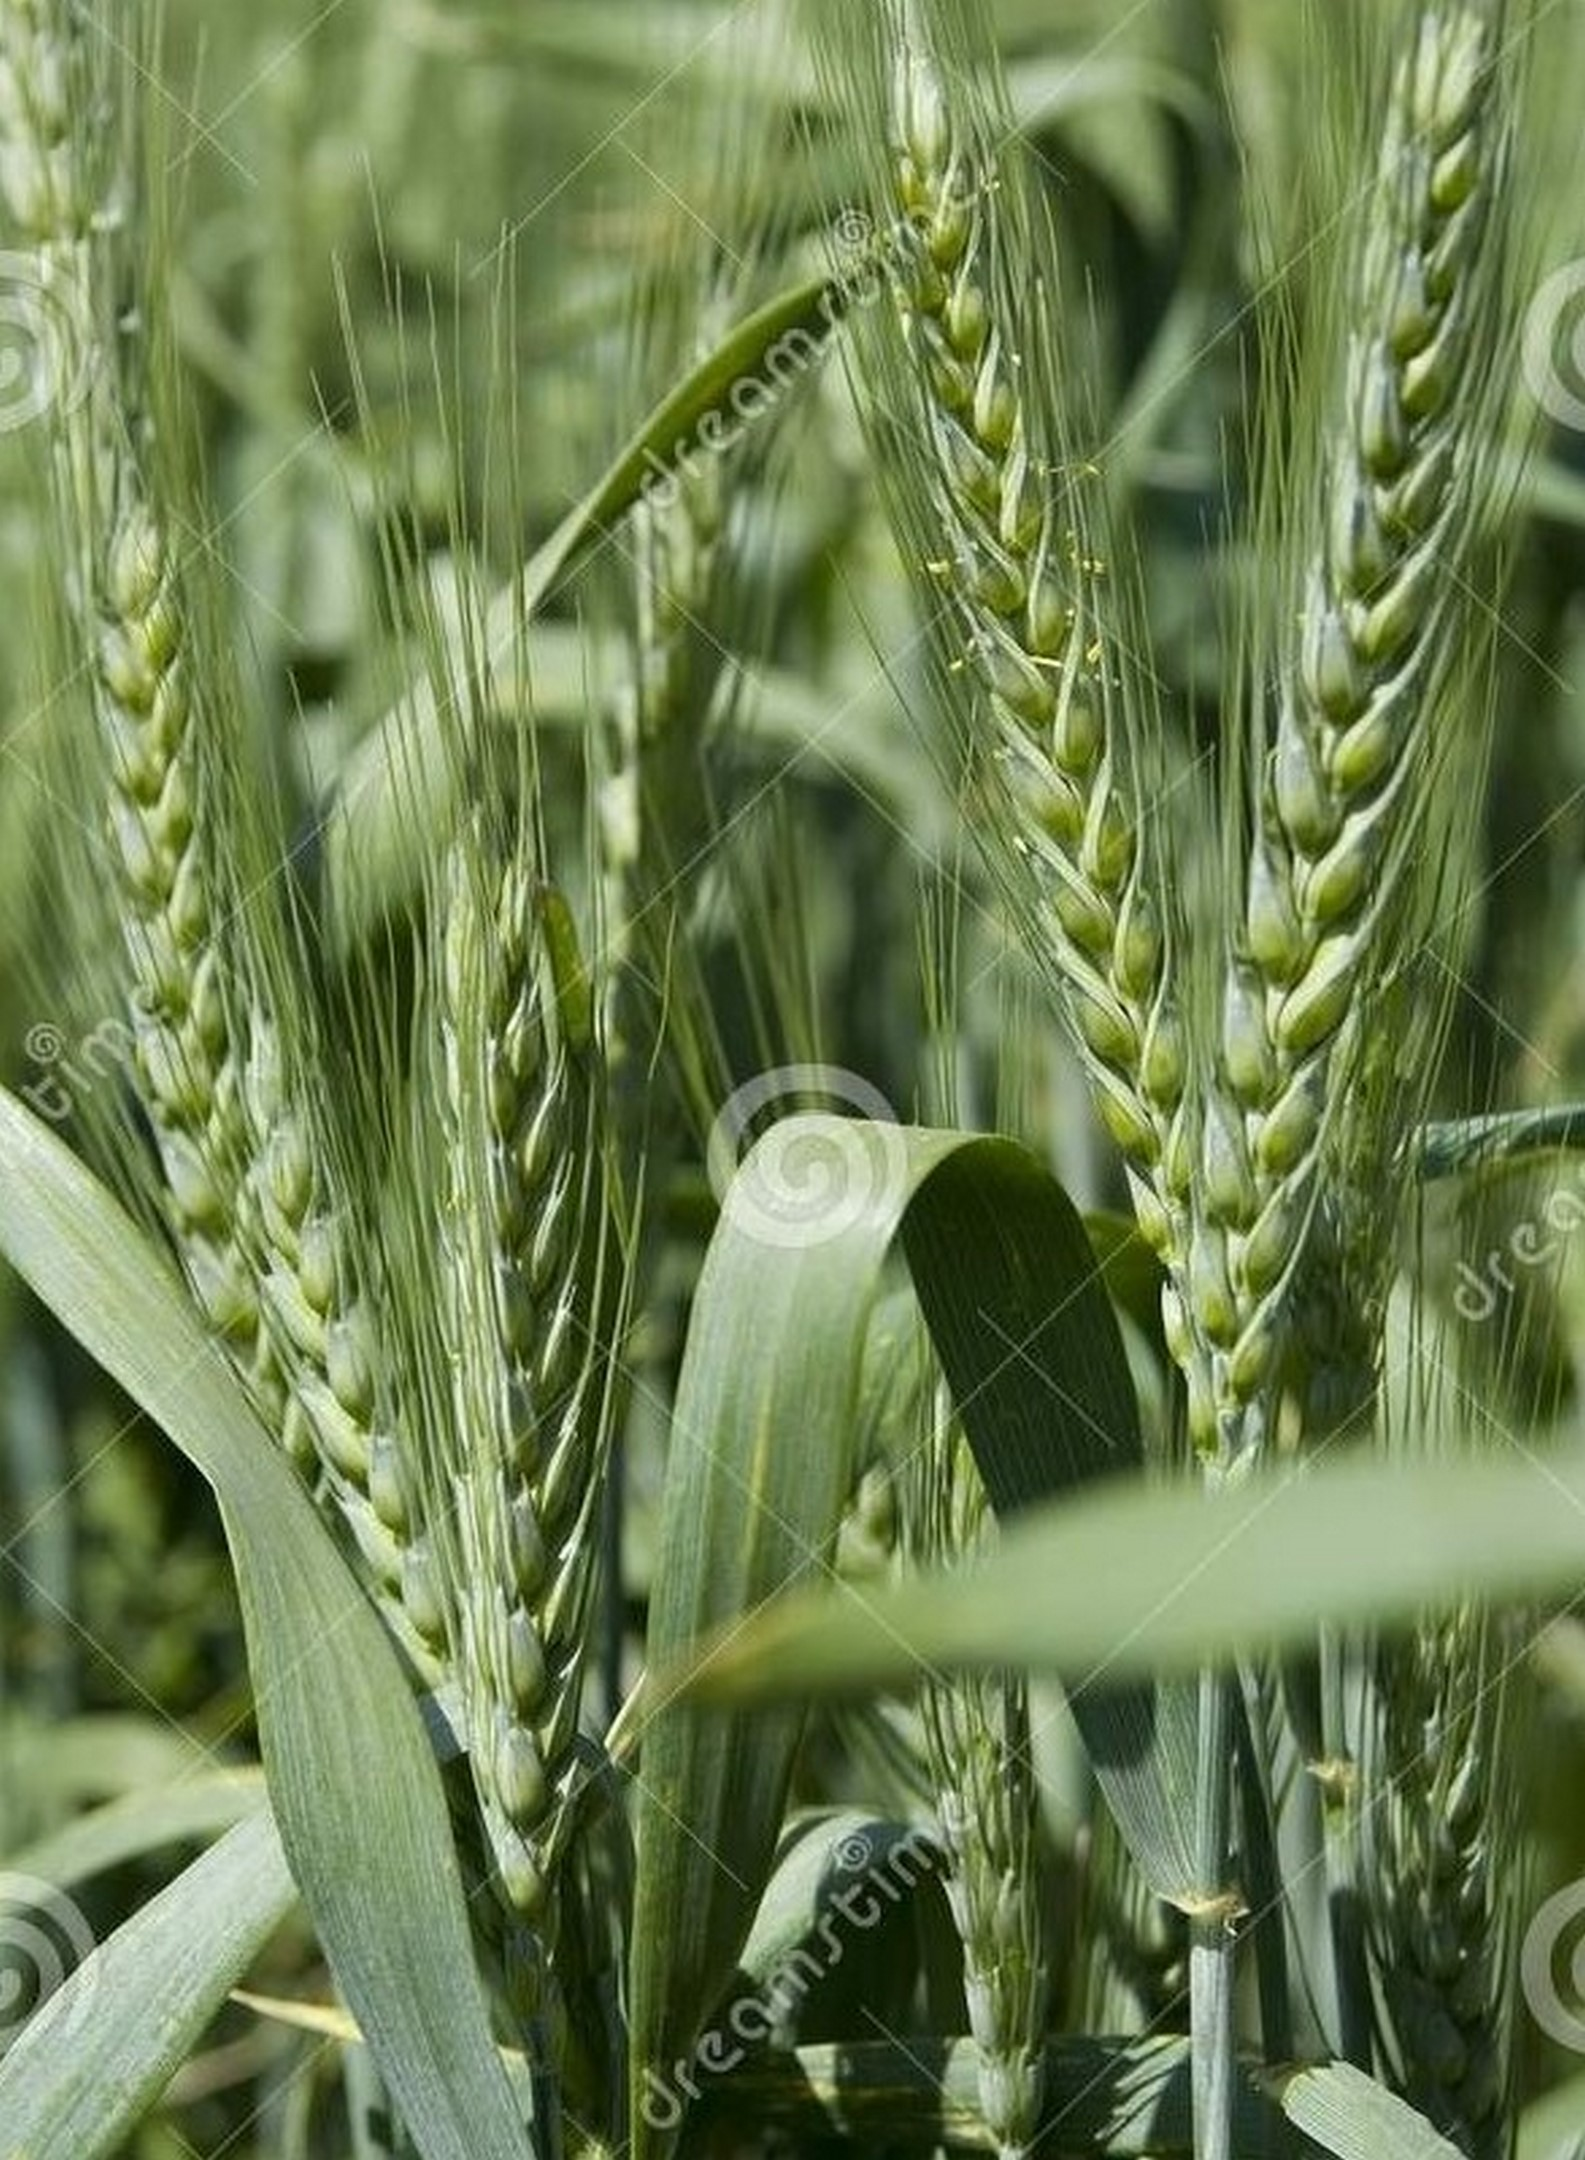Healthy Wheat: (849, 49, 1214, 1218), (367, 797, 668, 1796)
